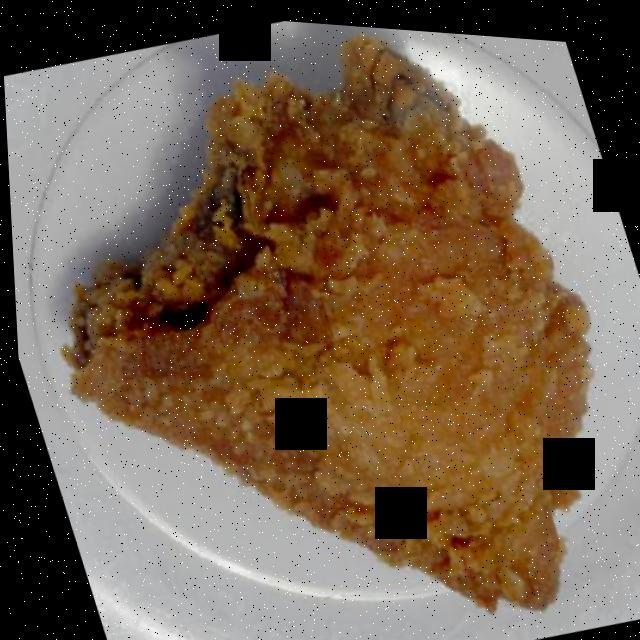Frango: (39, 61, 640, 640)
